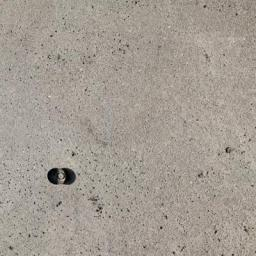FOD: (48, 165, 79, 191)
